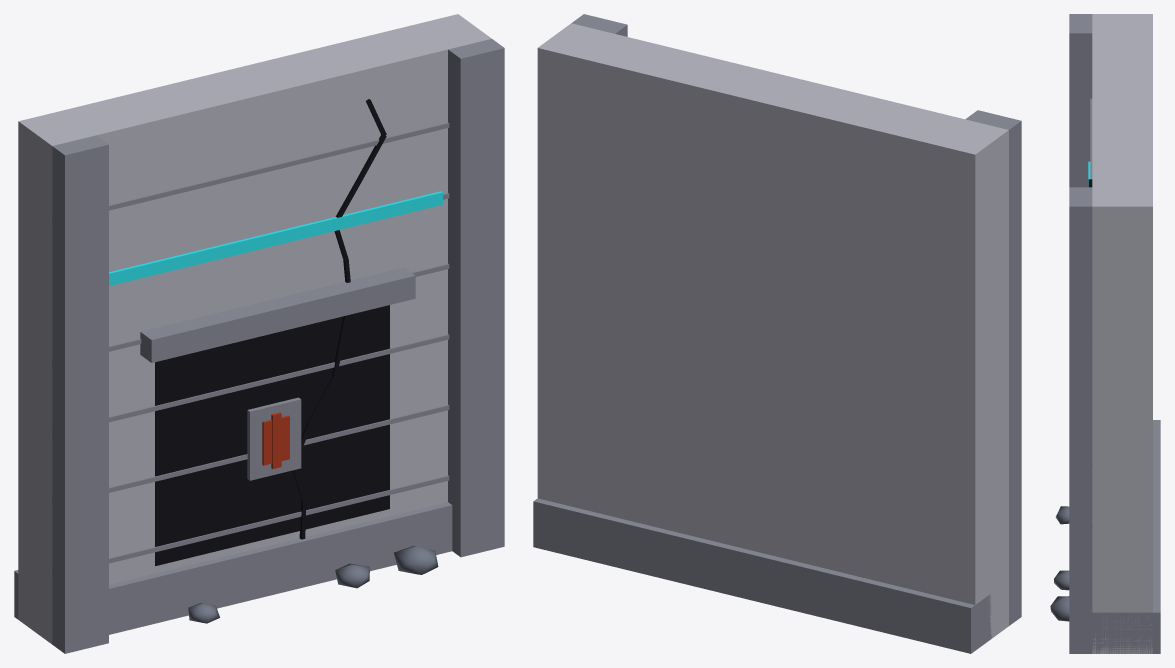
File: archive_secret_wall.glb
3 views of the same model, side by side, from view 1: azimuth 30°, elevation 25°; view 2: azimuth 150°, elevation 25°; view 3: azimuth 270°, elevation 25° (orthographic). The views are drawn at different scales.
Visible parts, largest first — view 1: plinth; view 2: plinth; view 3: plinth.
Part boxes in pixels (x1,y1,x2,y2): plinth: (14,14,504,653); plinth: (533,14,1021,653); plinth: (1050,14,1160,653).
Bounding box in the file's own units: 6 × 6.59 × 1.45.
